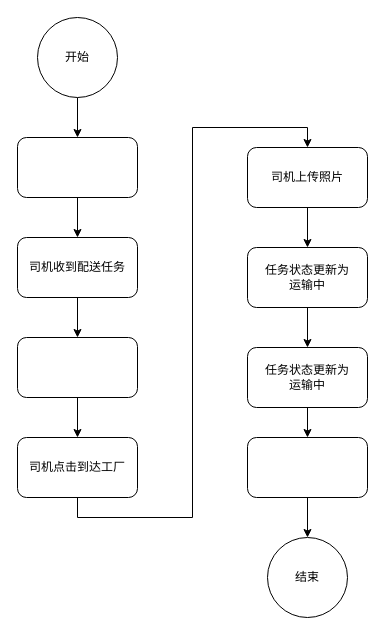
Some shapes in this 385 by 635 pixel diagram are drawn without their labels. The centre of each missing label's shape, as x and y in pixels:
"任务状态更新为 装货" goes at [77,367].
"司机完成运输任务" goes at [307,467].
"网页端导入配送任务" goes at [77,167].
